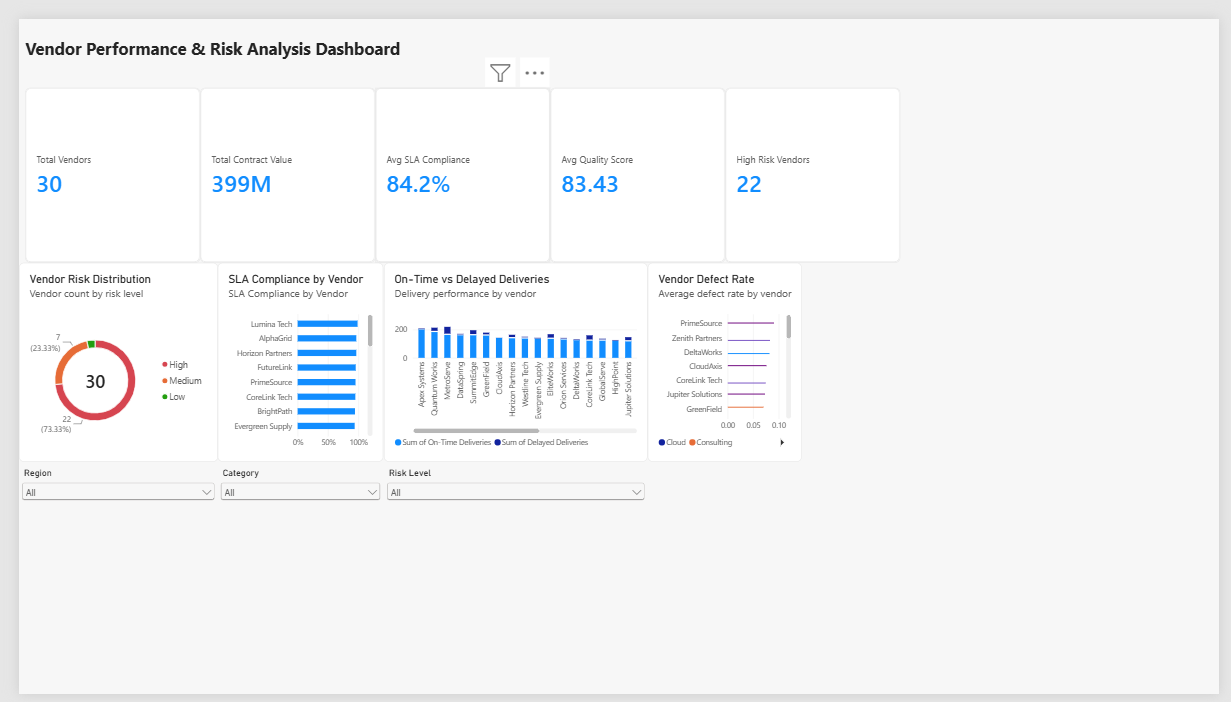

The dashboard page shown, as its layout file describes it:
{"tool":"powerbi","page":{"name":"Page 1","canvas":[1920,1080],"ordinal":0},"visuals":[{"type":"cardVisual","fields":{"Data":["Vendor Performance.Total Vendors"]},"box":[10,110,280,280],"z":0},{"type":"cardVisual","fields":{"Data":["Vendor Performance.Total Contract Value"]},"box":[290,110,280,280],"z":1000},{"type":"cardVisual","fields":{"Data":["Vendor Performance.Avg SLA Compliance"]},"box":[570,110,280,280],"z":2000},{"type":"cardVisual","fields":{"Data":["Vendor Performance.Avg Quality Score"]},"box":[850,110,280,280],"z":3000},{"type":"cardVisual","fields":{"Data":["Vendor Performance.High Risk Vendors"]},"box":[1130,110,280,280],"z":4000},{"type":"donutChart","title":"Vendor Risk Distribution","fields":{"Category":["Vendor Performance.Risk Level"],"Y":["Count(Vendor Performance.Vendor ID)"]},"box":[0,390,318.3,318.3],"z":5000},{"type":"clusteredBarChart","title":"SLA Compliance by Vendor","fields":{"Category":["Vendor Performance.Vendor Name"],"Y":["Vendor Performance.Avg SLA Compliance"]},"box":[318.3,390,265,318.3],"z":6000},{"type":"columnChart","title":"On-Time vs Delayed Deliveries","fields":{"Category":["Vendor Performance.Vendor Name"],"Y":["Sum(Vendor Performance.On-Time Deliveries)","Sum(Vendor Performance.Delayed Deliveries)"]},"box":[583.3,390,421.7,318.3],"z":7000},{"type":"clusteredBarChart","title":"Vendor Defect Rate","fields":{"Category":["Vendor Performance.Vendor Name"],"Series":["Vendor Performance.Category"],"Y":["Avg(Vendor Performance.Defect Rate %)"]},"box":[1005,390,246.7,318.3],"z":8000},{"type":"textbox","box":[10,28.3,801.7,50],"z":9000},{"type":"slicer","fields":{"Values":["Vendor Performance.Region"]},"box":[0,718,318,318],"z":10000},{"type":"slicer","fields":{"Values":["Vendor Performance.Category"]},"box":[318,718,265,318],"z":11000},{"type":"slicer","fields":{"Values":["Vendor Performance.Risk Level"]},"box":[583,718,422,318],"z":12000}]}

Visuals, with their boxes in screenshot pixels (x1, y1, x2, y2), scaled from the page's 1920x1080 canvas onto the 1231x702 screenshot:
cardVisual - Vendor Performance.Total Vendors: bbox=(6, 72, 186, 254)
cardVisual - Vendor Performance.Total Contract Value: bbox=(186, 72, 365, 254)
cardVisual - Vendor Performance.Avg SLA Compliance: bbox=(365, 72, 545, 254)
cardVisual - Vendor Performance.Avg Quality Score: bbox=(545, 72, 724, 254)
cardVisual - Vendor Performance.High Risk Vendors: bbox=(724, 72, 904, 254)
"Vendor Risk Distribution" donutChart: bbox=(0, 254, 204, 460)
"SLA Compliance by Vendor" clusteredBarChart: bbox=(204, 254, 374, 460)
"On-Time vs Delayed Deliveries" columnChart: bbox=(374, 254, 644, 460)
"Vendor Defect Rate" clusteredBarChart: bbox=(644, 254, 803, 460)
textbox: bbox=(6, 18, 520, 51)
slicer - Vendor Performance.Region: bbox=(0, 467, 204, 673)
slicer - Vendor Performance.Category: bbox=(204, 467, 374, 673)
slicer - Vendor Performance.Risk Level: bbox=(374, 467, 644, 673)
